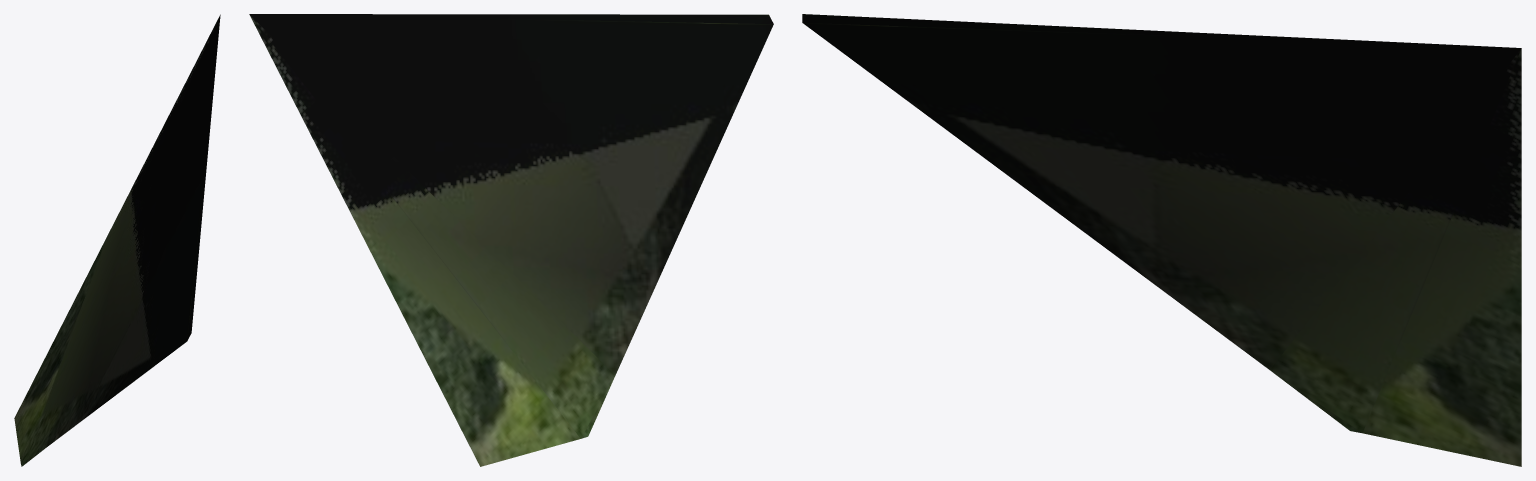
The picture shows the model from 3 angles, left to right: view 1: azimuth 30°, elevation 25°; view 2: azimuth 150°, elevation 25°; view 3: azimuth 270°, elevation 25°; orthographic projection. The views are drawn at different scales.
Bounding box in the file's own units: 3.93 × 5.3 × 5.9.
1 material, 1 textured.
